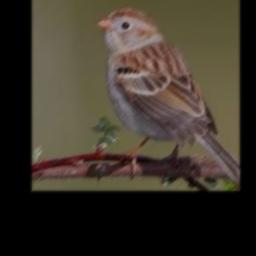Sparrow: (97, 7, 240, 186)
